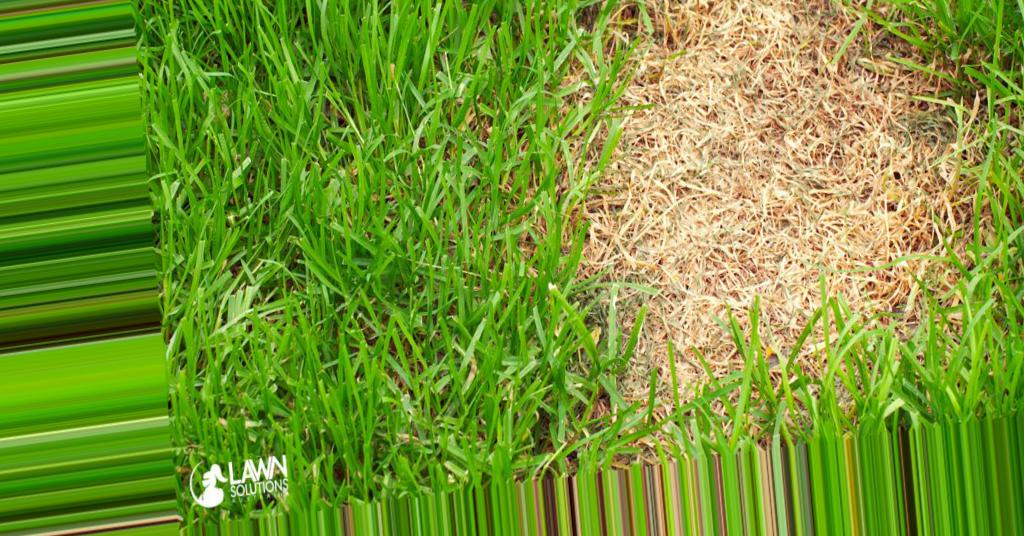patch: (661, 8, 898, 276), (675, 289, 738, 333), (610, 168, 638, 247)
